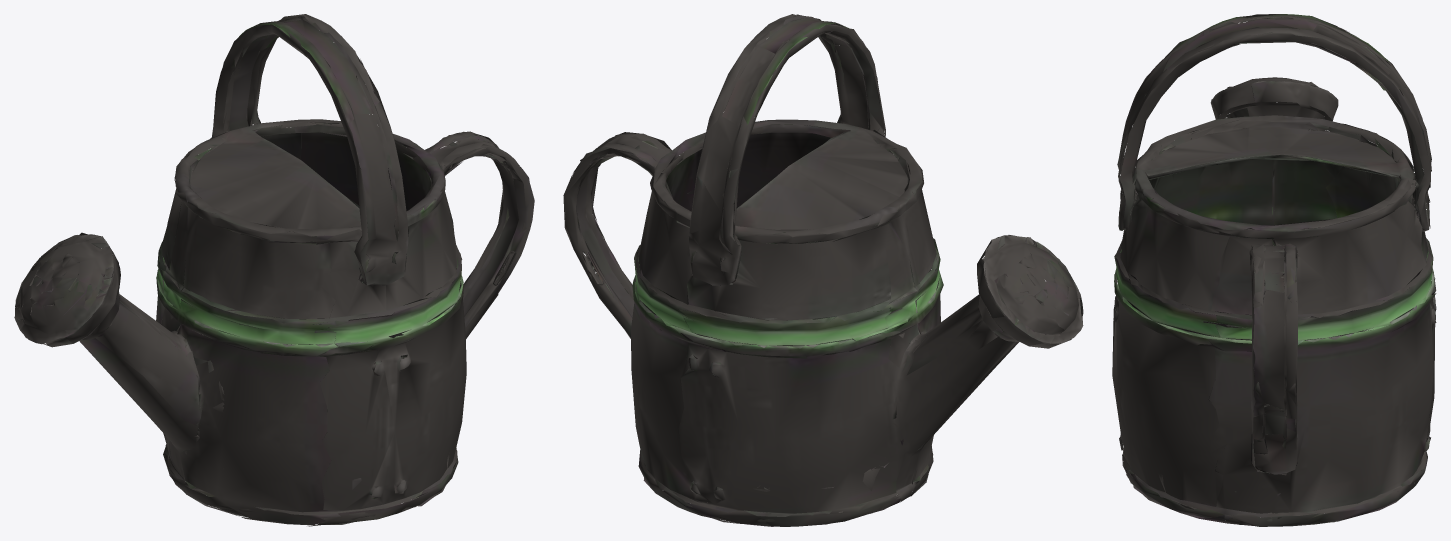
File: piece_acc_watering_can.glb
3 views of the same model, side by side, from view 1: azimuth 30°, elevation 25°; view 2: azimuth 150°, elevation 25°; view 3: azimuth 270°, elevation 25° (orthographic).
Visible parts, largest first — view 1: trait_acc_watering_can; view 2: trait_acc_watering_can; view 3: trait_acc_watering_can.
Boxes of the visible parts, x1,y1,x2,y2 form: trait_acc_watering_can: [14, 14, 534, 526]; trait_acc_watering_can: [563, 14, 1083, 526]; trait_acc_watering_can: [1112, 14, 1436, 526].
Size of the model in its own units: 0.3062 by 0.2578 by 0.1696.
Materials: 1 (1 with a texture image).
